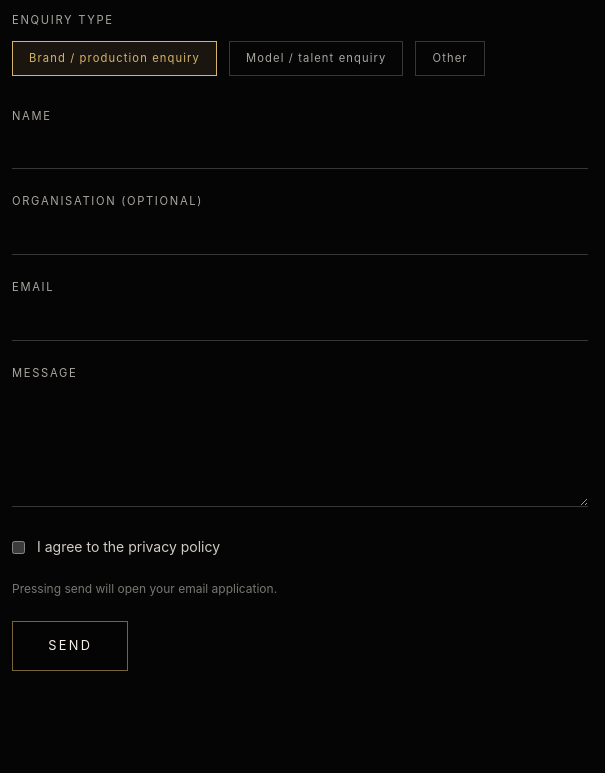
Test case: ContactForm › shows validation errors when submitting empty
Step 1. Click the button "Send" → coordinates (70, 646), box [12,621,128,671]
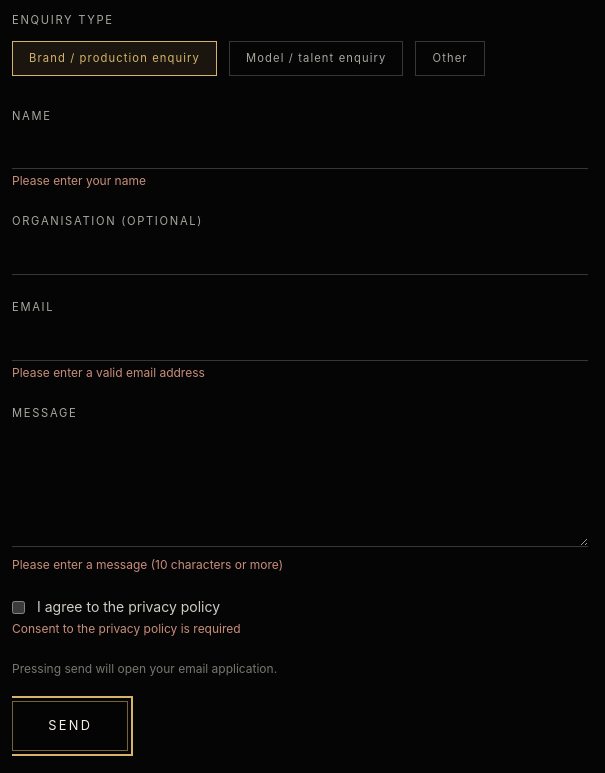
Check: the text "Please enter your name" is shown, box [12,173,146,188]
Check: the text "Please enter a message (10 characters or more)" is shown, box [12,557,283,572]
Check: the text "Consent to the privacy policy is required" is shown, box [12,621,241,636]
